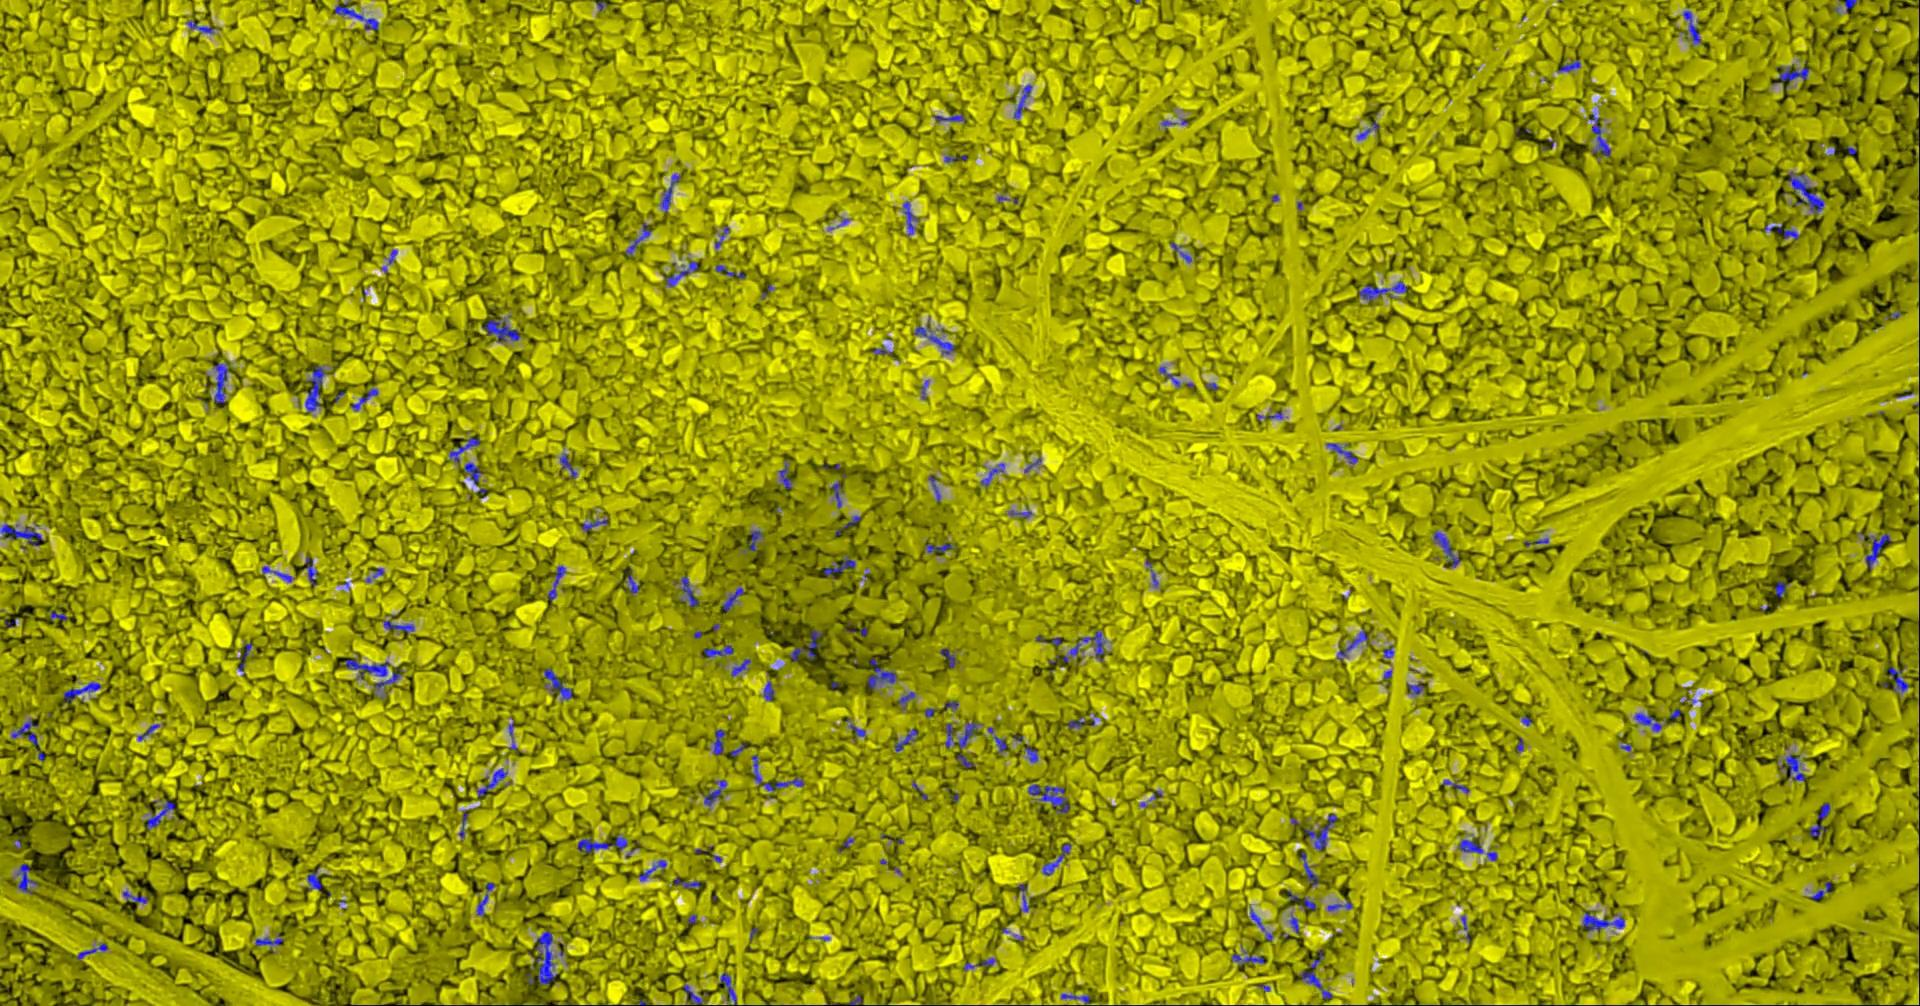ant: (750, 754, 803, 790), (524, 930, 557, 984), (344, 659, 401, 688), (1299, 949, 1332, 998), (943, 721, 977, 767), (1788, 171, 1823, 213), (334, 0, 378, 30), (11, 719, 44, 760), (1303, 813, 1337, 850), (914, 323, 954, 353), (1027, 784, 1069, 812), (1336, 627, 1368, 661), (789, 629, 822, 661), (1359, 279, 1407, 301), (1432, 530, 1459, 567), (305, 365, 325, 412), (1863, 533, 1890, 569), (1589, 113, 1610, 156), (866, 658, 897, 688), (1043, 842, 1070, 875), (481, 318, 521, 340), (1081, 630, 1110, 661), (145, 800, 175, 829), (577, 835, 626, 852), (0, 525, 43, 545), (1581, 911, 1624, 931), (543, 668, 571, 699), (623, 224, 650, 255), (664, 260, 697, 286), (476, 768, 505, 796), (1771, 62, 1808, 84), (450, 436, 479, 462), (63, 682, 100, 702), (674, 575, 698, 606), (660, 174, 679, 211), (1779, 754, 1804, 781), (17, 862, 38, 893), (1299, 851, 1318, 885), (1326, 443, 1357, 464), (823, 555, 855, 575), (1286, 889, 1316, 911), (1013, 84, 1031, 118), (350, 387, 377, 410), (547, 565, 565, 600), (703, 779, 726, 805), (476, 882, 494, 916), (637, 859, 665, 880), (213, 362, 229, 401), (1683, 10, 1700, 43), (980, 464, 1004, 486), (1887, 666, 1909, 691), (720, 972, 737, 1005), (902, 199, 917, 235), (1763, 224, 1798, 239), (894, 728, 917, 751), (1230, 950, 1265, 965), (721, 587, 743, 611), (76, 942, 107, 959), (1634, 713, 1661, 730), (237, 641, 251, 674), (1170, 241, 1191, 262), (1158, 366, 1178, 387), (1356, 119, 1379, 138), (559, 453, 577, 478), (715, 264, 745, 278), (262, 567, 292, 580), (383, 619, 414, 633), (683, 984, 703, 1005), (463, 462, 481, 485), (623, 567, 639, 593), (185, 20, 217, 33), (255, 934, 283, 948), (778, 459, 791, 489), (1808, 882, 1830, 899), (1441, 779, 1468, 793), (305, 556, 317, 586), (307, 868, 323, 892), (730, 658, 750, 676), (927, 474, 940, 500), (712, 728, 725, 754), (1458, 840, 1482, 854), (938, 648, 955, 668), (703, 645, 733, 657), (1060, 993, 1090, 1005), (582, 518, 607, 531), (122, 890, 147, 903), (1017, 883, 1029, 911), (1250, 908, 1263, 931), (932, 113, 965, 122), (897, 691, 914, 708), (830, 481, 842, 507), (673, 876, 698, 888), (924, 542, 952, 553), (1557, 58, 1578, 71), (748, 530, 761, 551), (1035, 635, 1062, 645), (458, 809, 467, 840), (1808, 822, 1826, 837), (1025, 743, 1037, 762), (1817, 801, 1830, 819), (1327, 901, 1352, 909), (1837, 0, 1857, 11), (762, 681, 773, 700), (993, 735, 1007, 751), (1067, 716, 1084, 728), (1774, 580, 1785, 597), (1407, 683, 1423, 694)
